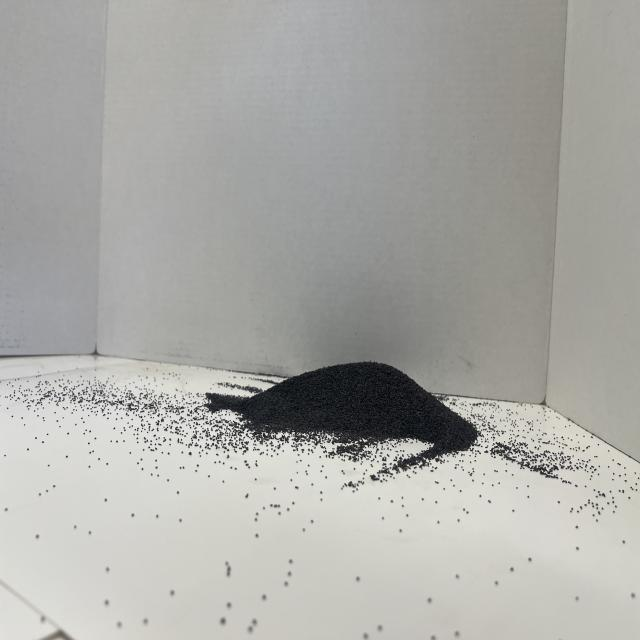Poppy Seeds: (214, 322, 486, 503)
